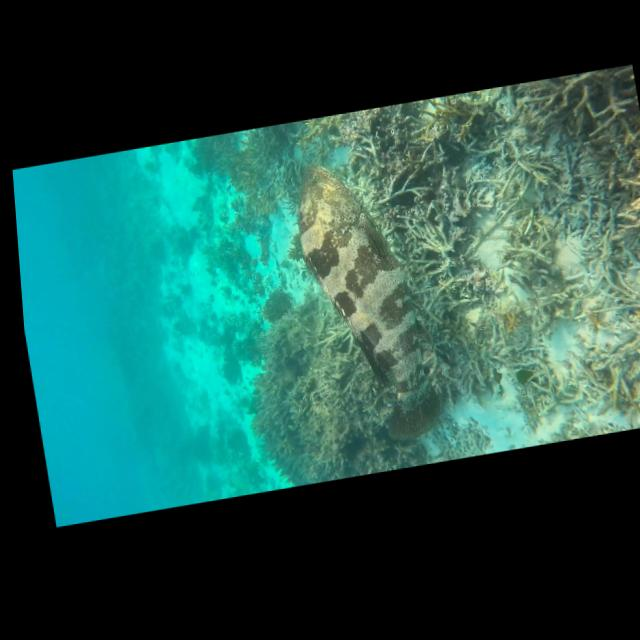Groupers: (288, 142, 449, 454)
